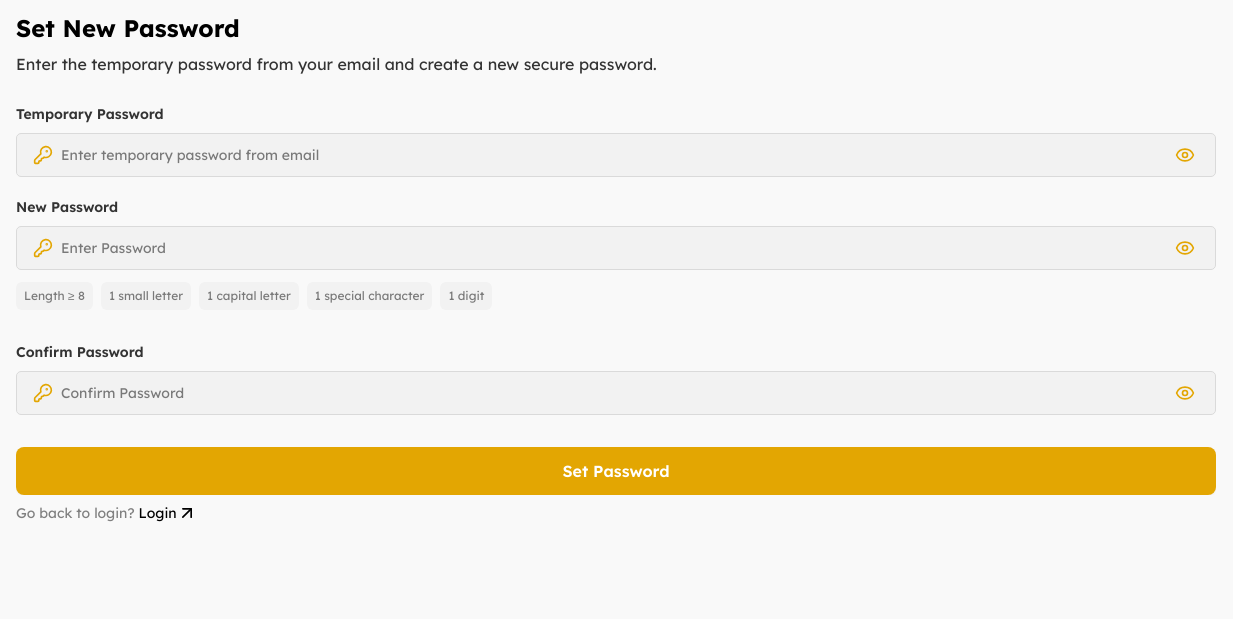
FirstLoginSetupPasswordPage › surfaces the backend error instead of the popup
This screenshot has width=1233, height=619.
Type "Temp@1234" into the password field labelled "Temporary Password".
click(612, 155); type("Temp@1234")  # box 61,144 -> 1163,166
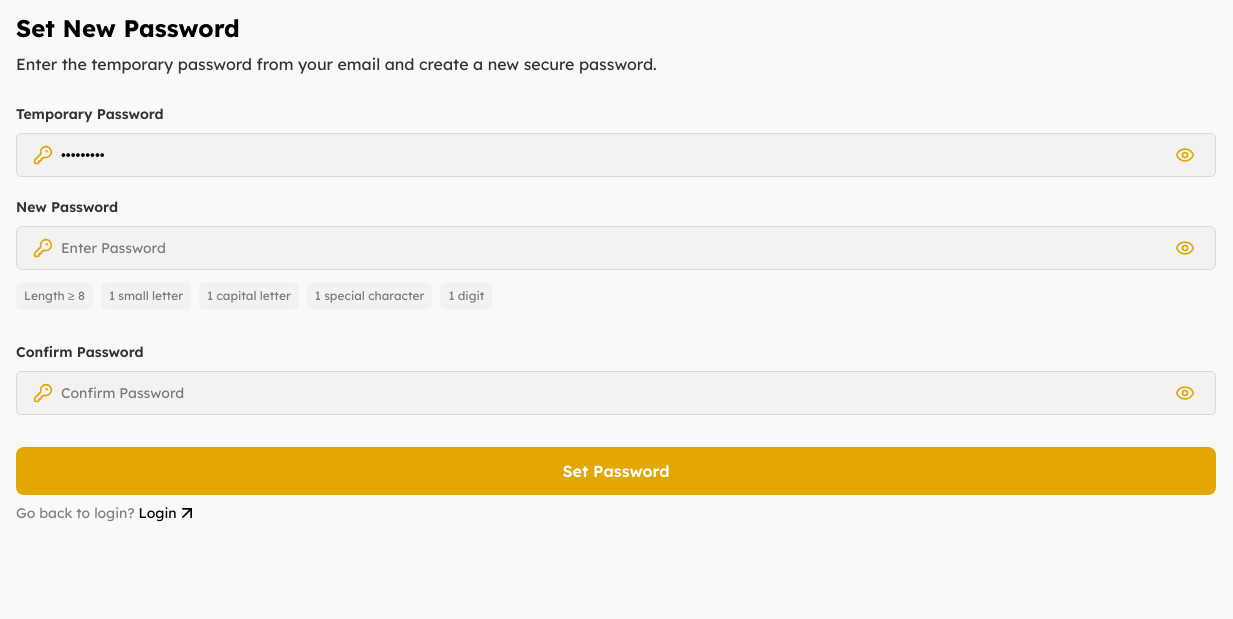
Type "TradeHarmony1!" into the password field labelled "New Password".
click(612, 248); type("TradeHarmony1!")  # box 61,238 -> 1163,258
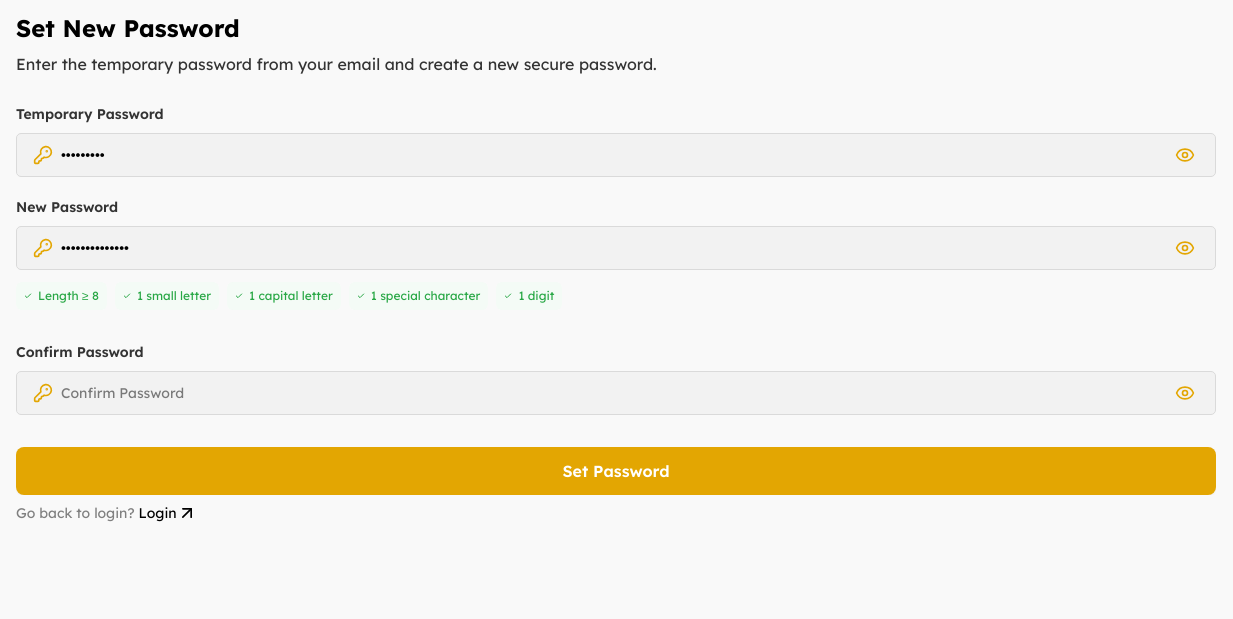
Type "TradeHarmony1!" into the password field labelled "Confirm Password".
click(612, 393); type("TradeHarmony1!")  # box 61,382 -> 1163,404
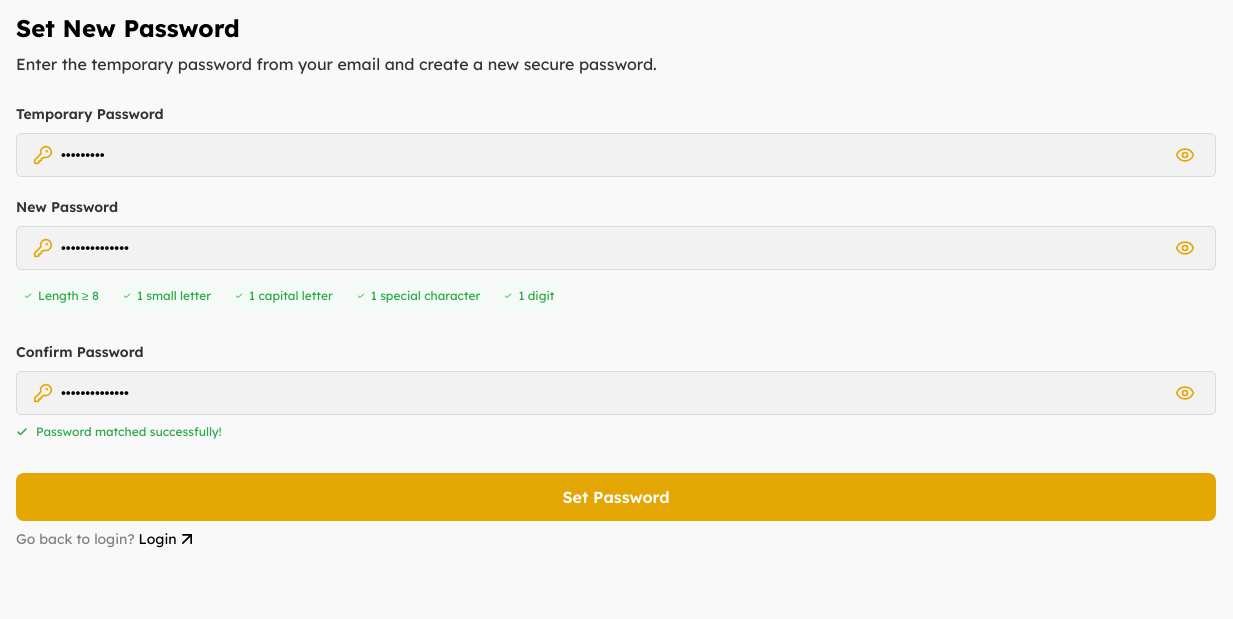
Click the button "Set Password".
click(616, 497)  # box 16,473 -> 1216,521
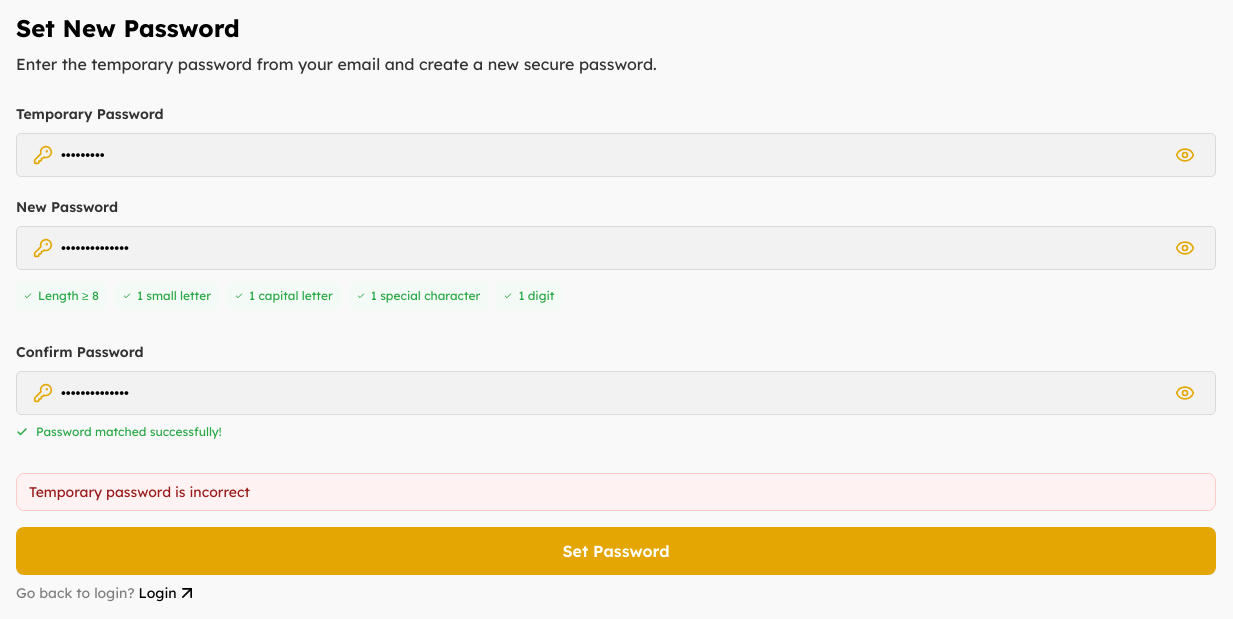
Expected: the text "Temporary password is incorrect" is shown, 16,473 -> 1216,511
